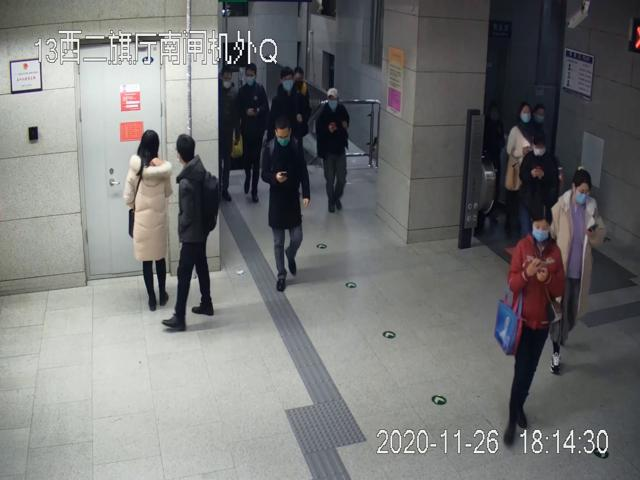person: (503, 204, 567, 448), (547, 165, 604, 380), (162, 134, 219, 330), (123, 129, 173, 312), (261, 118, 310, 292), (236, 63, 271, 202), (316, 86, 350, 214), (271, 64, 309, 146)
